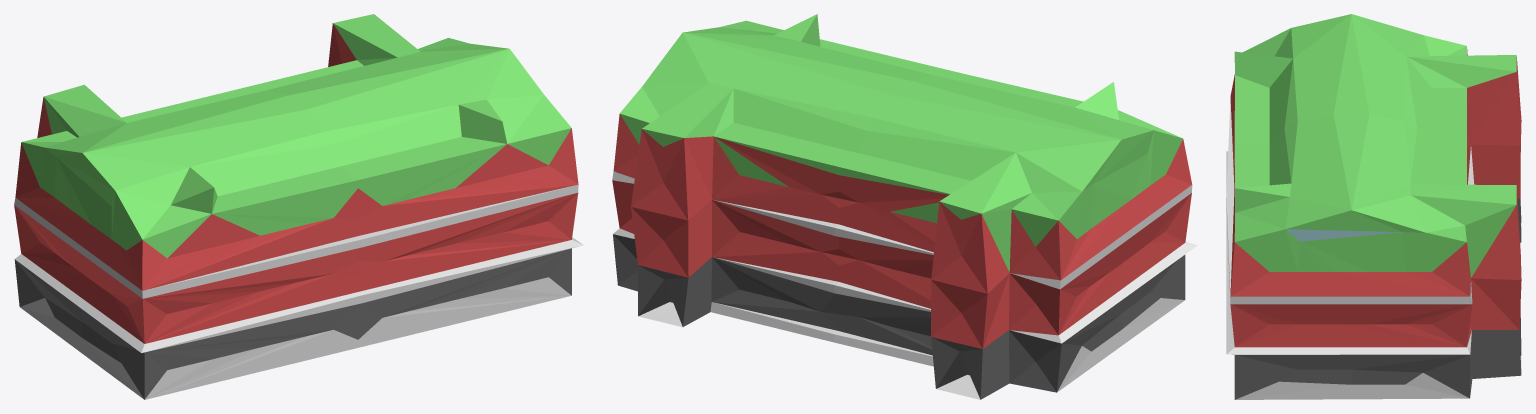
File: MorHouse5_LOD4.fbx
The picture shows the model from 3 angles, left to right: view 1: azimuth 30°, elevation 25°; view 2: azimuth 150°, elevation 25°; view 3: azimuth 270°, elevation 25°; orthographic projection. The views are drawn at different scales.
Parts seen in each view (by area): view 1: Cube.001; view 2: Cube.001; view 3: Cube.001.
Boxes of the visible parts, x1,y1,x2,y2 form: Cube.001: [14, 14, 583, 399]; Cube.001: [612, 14, 1197, 399]; Cube.001: [1226, 14, 1521, 399].
Bounding box in the file's own units: 5800 × 2524 × 3558.
